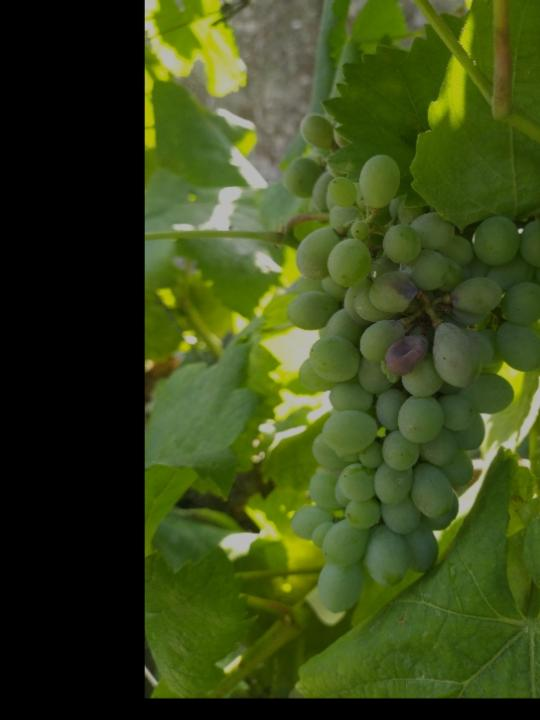grape: (286, 117, 540, 613)
